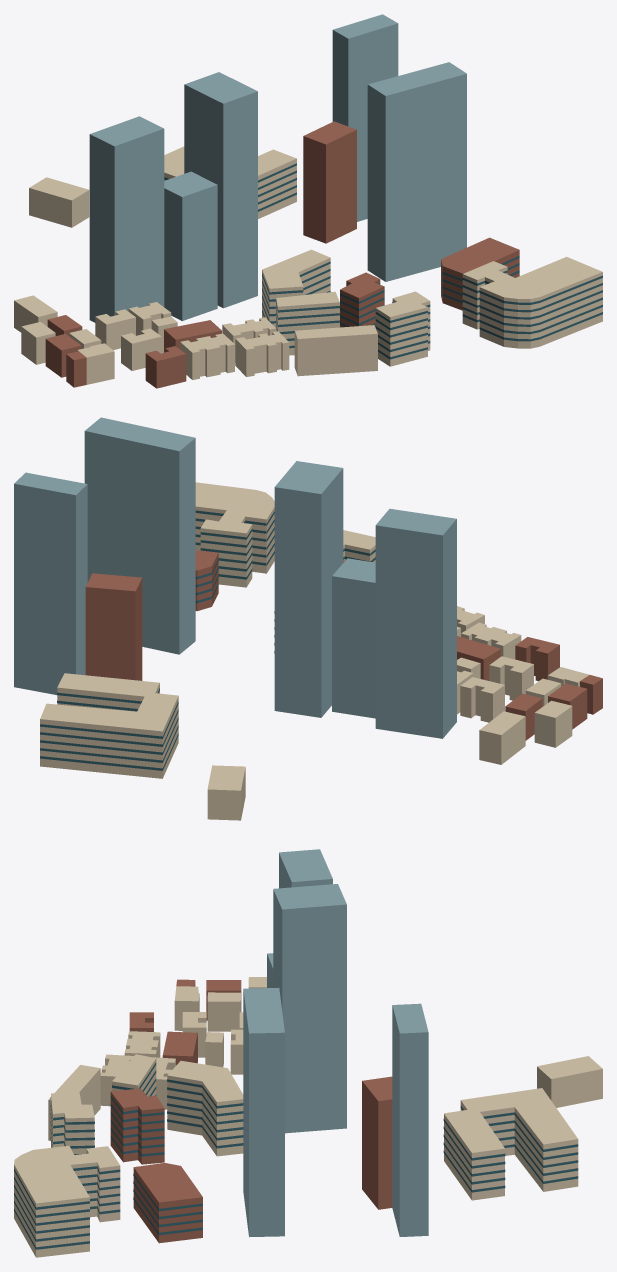
Rendered from city_1_-7.glb.
The picture shows the model from 3 angles, top to bottom: view 1: azimuth 30°, elevation 25°; view 2: azimuth 150°, elevation 25°; view 3: azimuth 270°, elevation 25°; orthographic projection. The views are drawn at different scales.
Visible parts, largest first — view 1: city_1_-7; view 2: city_1_-7; view 3: city_1_-7.
Part boxes in pixels (<box>): city_1_-7: <box>14,14,602,388</box>; city_1_-7: <box>14,417,602,820</box>; city_1_-7: <box>14,849,602,1257</box>.
Bounding box in the file's own units: 269 × 112 × 267.
